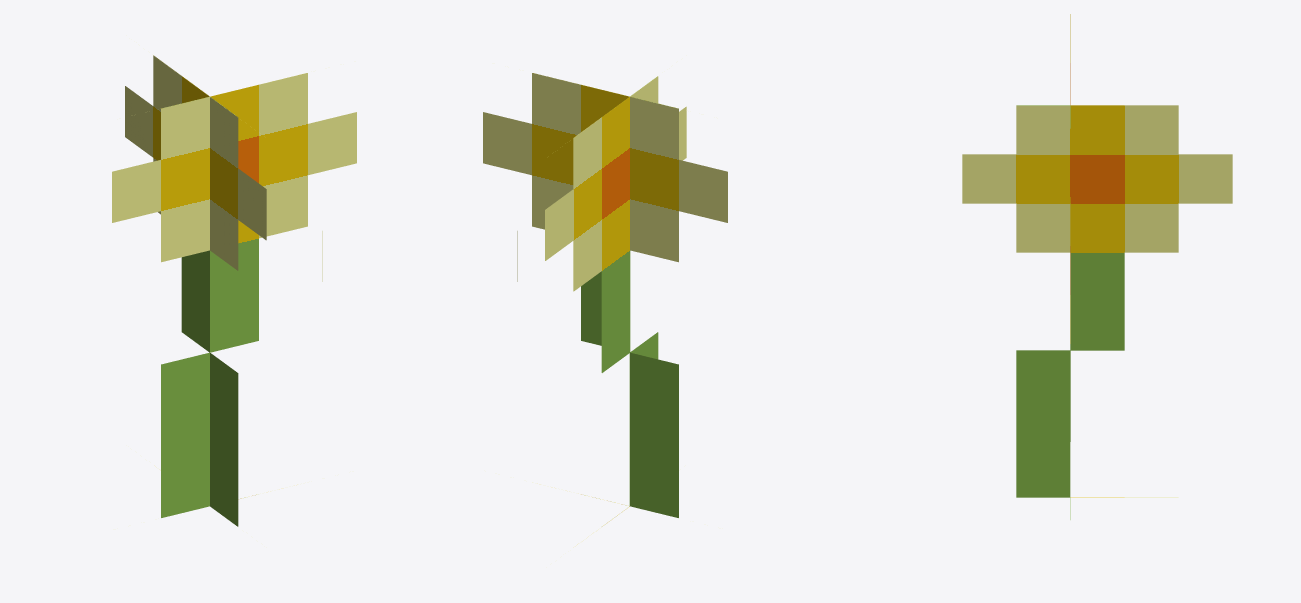
File: Flower_Yellow.fbx
3 views of the same model, side by side, from view 1: azimuth 30°, elevation 25°; view 2: azimuth 150°, elevation 25°; view 3: azimuth 270°, elevation 25° (orthographic). The views are drawn at different scales.
Visible parts, largest first — view 1: Cube.766; view 2: Cube.766; view 3: Cube.766.
Boxes of the visible parts, left/top/right/bottom form: Cube.766: left=112, top=55, right=356, bottom=526; Cube.766: left=483, top=73, right=727, bottom=545; Cube.766: left=962, top=14, right=1232, bottom=519.
Size of the model in its own units: 200 by 200 by 200.
Materials: 1 (1 with a texture image).
